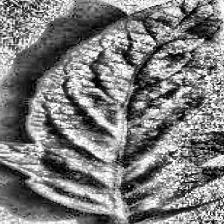Blossom Blight: (142, 145, 185, 184), (162, 34, 216, 65), (64, 133, 114, 160), (90, 59, 136, 88), (52, 90, 71, 126)
